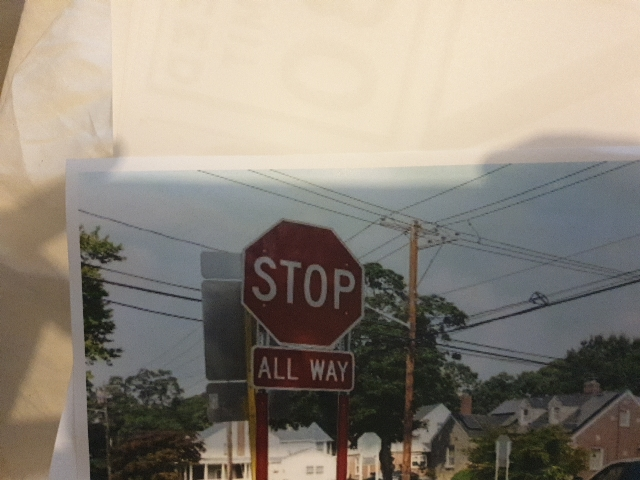stop: (250, 227, 364, 342)
